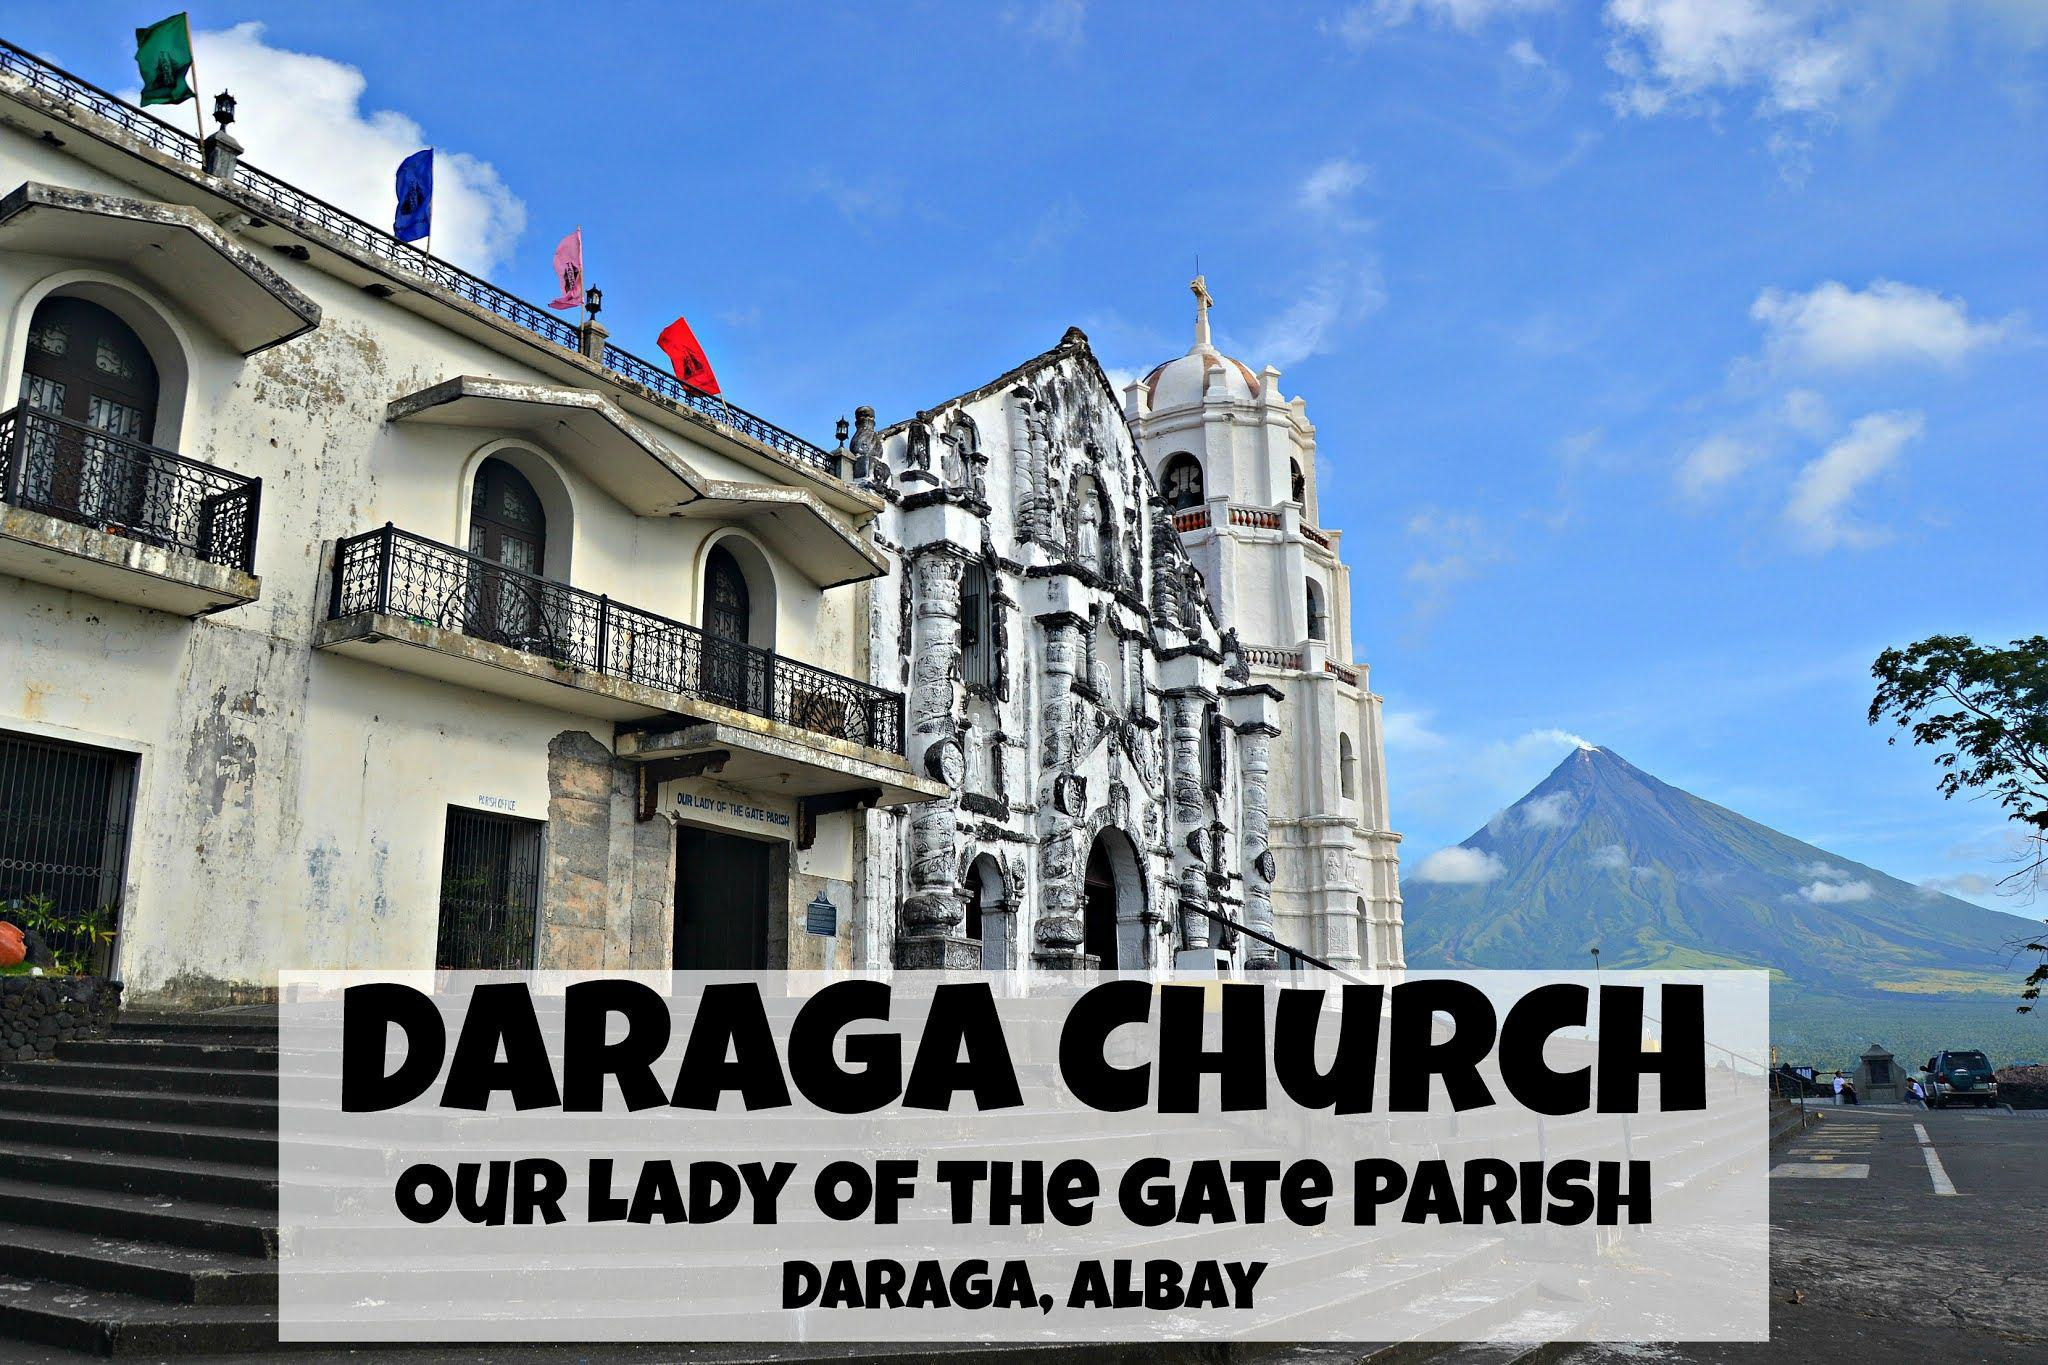daraga_church_daraga_albay: (847, 241, 1415, 977)
